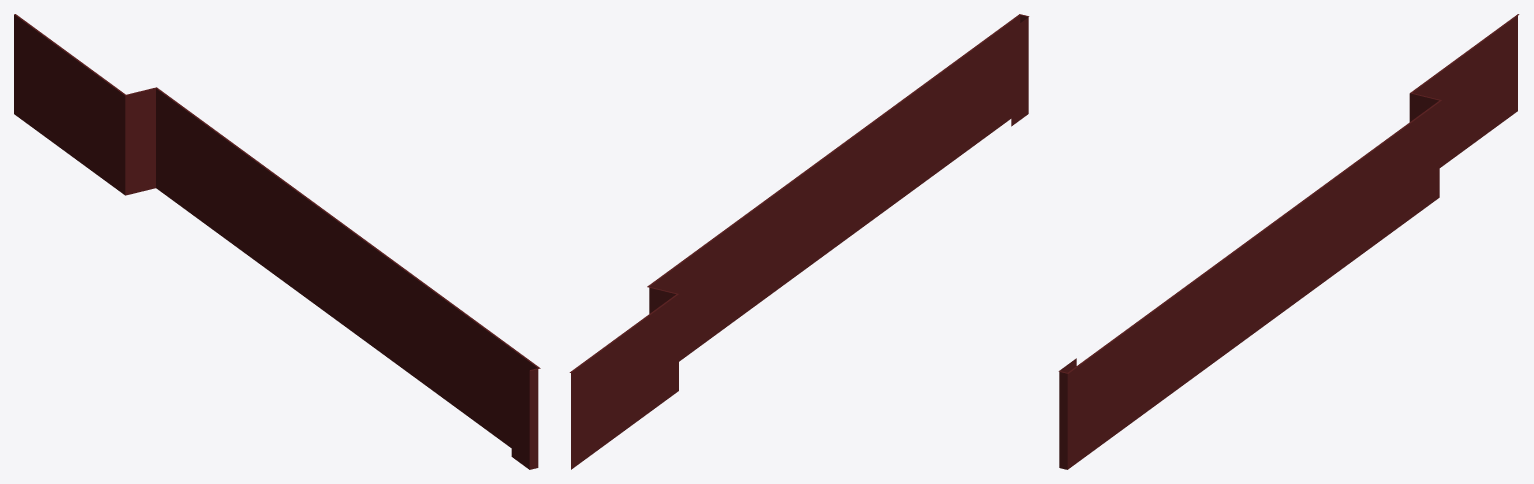
File: p55-wall-endface-1-base.fbx
The picture shows the model from 3 angles, left to right: view 1: azimuth 30°, elevation 25°; view 2: azimuth 150°, elevation 25°; view 3: azimuth 330°, elevation 25°; orthographic projection. The views are drawn at different scales.
Visible parts, largest first — view 1: p55-wall-endface-1-base; view 2: p55-wall-endface-1-base; view 3: p55-wall-endface-1-base.
Boxes of the visible parts, bbox=[...] form: p55-wall-endface-1-base: bbox=[14, 14, 540, 469]; p55-wall-endface-1-base: bbox=[569, 14, 1029, 469]; p55-wall-endface-1-base: bbox=[1058, 14, 1519, 469].
Bounding box in the file's own units: 95.01 × 280 × 2515.
